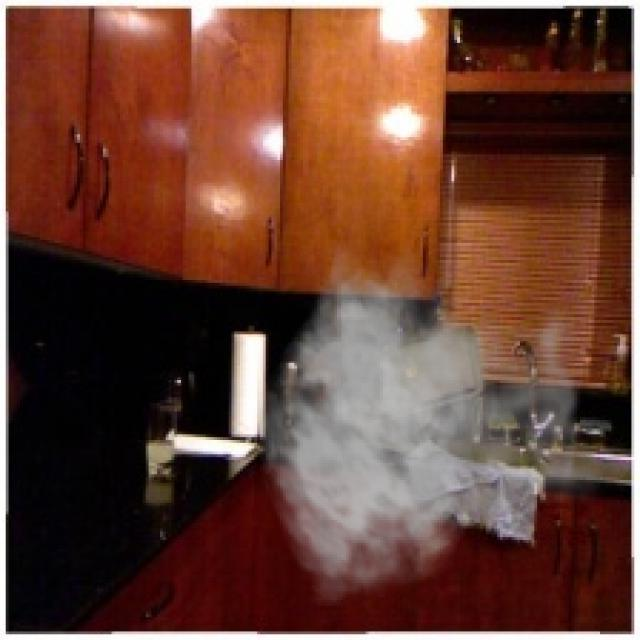Smoke: (257, 240, 612, 606)
